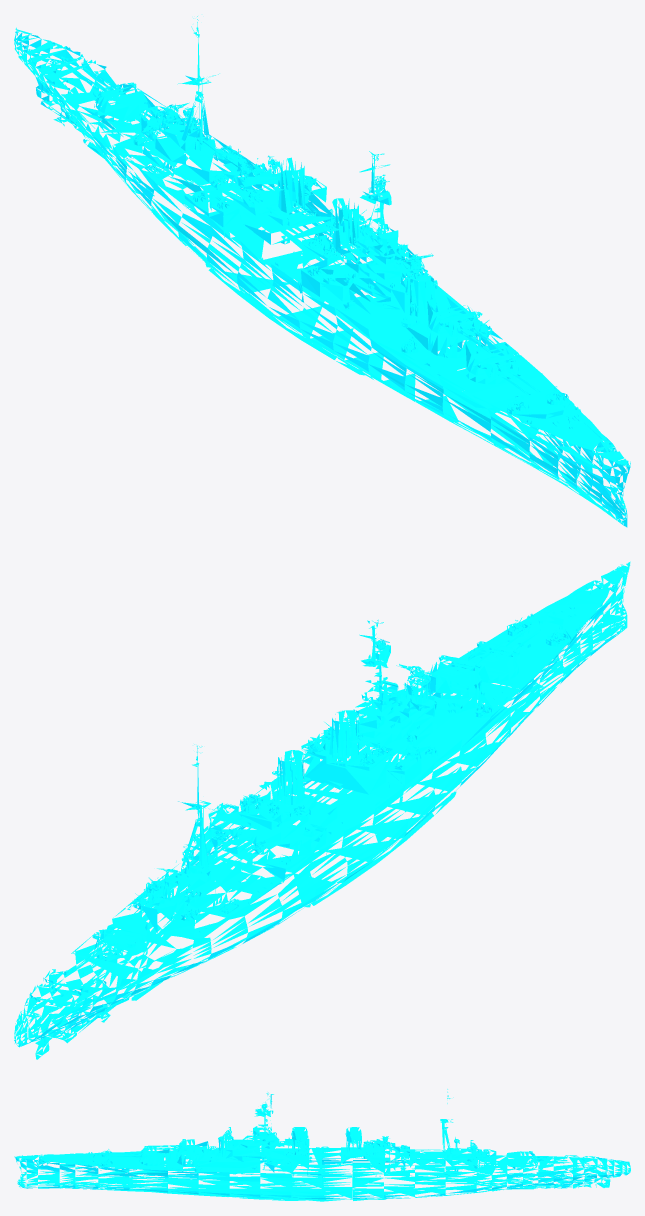
Rendered from PBSB610.glb.
3 views of the same model, one above another, from view 1: azimuth 30°, elevation 25°; view 2: azimuth 150°, elevation 25°; view 3: azimuth 270°, elevation 25° (orthographic). The views are drawn at different scales.
Parts seen in each view (by area): view 1: hull_mid, hull_bow, hull_stern, main_battery, aa_mount, secondary_battery, hull_body; view 2: hull_mid, hull_bow, hull_stern, main_battery, aa_mount, secondary_battery, hull_body; view 3: hull_mid, hull_bow, hull_stern, main_battery, aa_mount, secondary_battery, hull_body.
Part boxes in pixels (box(x1,y1,x2,y2)): hull_mid: box(112, 26, 508, 401); hull_bow: box(401, 331, 630, 527); hull_stern: box(14, 27, 188, 183); main_battery: box(72, 67, 541, 395); aa_mount: box(135, 116, 564, 411); secondary_battery: box(151, 107, 437, 310); hull_body: box(155, 102, 433, 269); hull_mid: box(112, 620, 509, 976); hull_bow: box(411, 561, 630, 766); hull_stern: box(14, 929, 191, 1059); main_battery: box(72, 626, 540, 973); aa_mount: box(134, 617, 564, 918); secondary_battery: box(152, 728, 437, 905); hull_body: box(157, 638, 433, 882); hull_mid: box(176, 1094, 496, 1201); hull_bow: box(14, 1150, 198, 1195); hull_stern: box(491, 1155, 630, 1191); main_battery: box(109, 1139, 567, 1167); aa_mount: box(103, 1137, 482, 1169); secondary_battery: box(251, 1139, 493, 1171); hull_body: box(224, 1102, 477, 1148).
Size of the model in its own units: 2.22 by 3.6 by 20.36.
